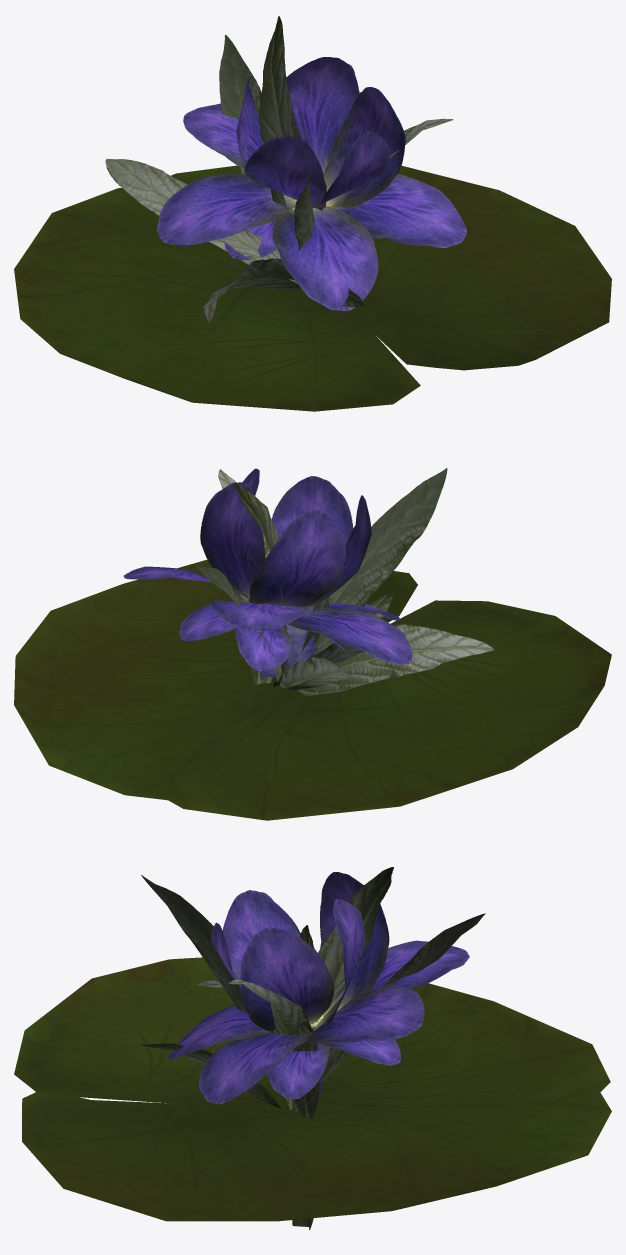
File: lillypad1_6_4_lod0.fbx
The picture shows the model from 3 angles, top to bottom: view 1: azimuth 30°, elevation 25°; view 2: azimuth 150°, elevation 25°; view 3: azimuth 270°, elevation 25°; orthographic projection. The views are drawn at different scales.
Visible parts, largest first — view 1: Mesh Object; view 2: Mesh Object; view 3: Mesh Object.
Boxes of the visible parts, x1,y1,x2,y2 form: Mesh Object: [14, 16, 611, 411]; Mesh Object: [14, 468, 611, 820]; Mesh Object: [14, 867, 611, 1229].
Bounding box in the file's own units: 1.01 × 0.6564 × 0.9748.
